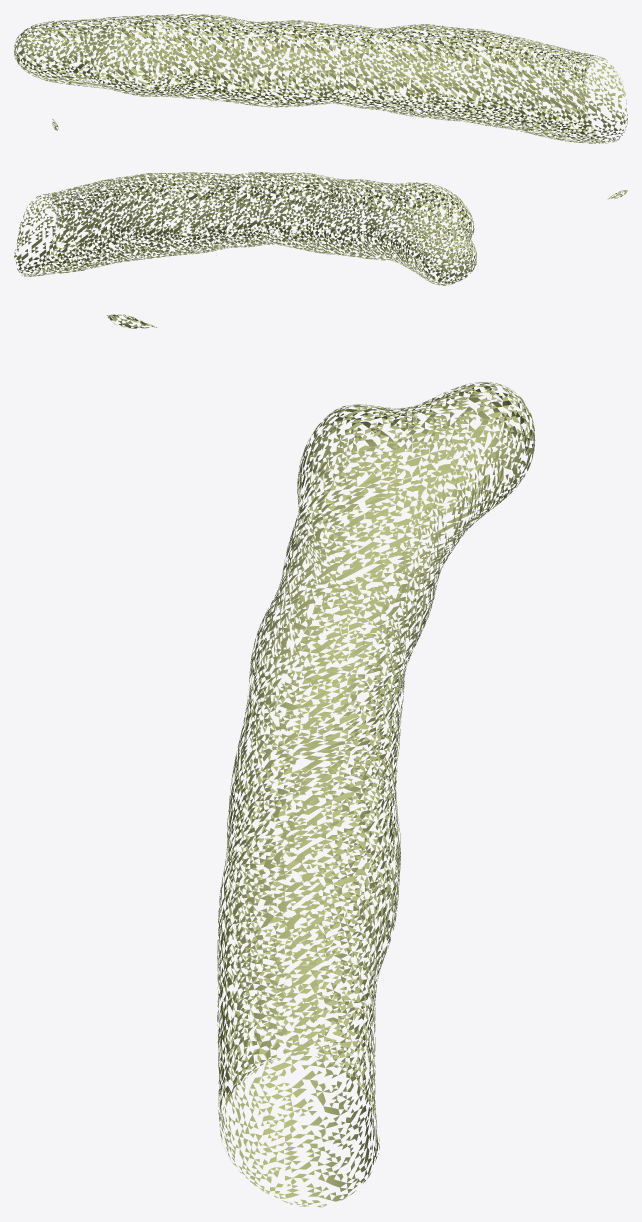
Rendered from morph_010.glb.
3 views of the same model, one above another, from view 1: azimuth 30°, elevation 25°; view 2: azimuth 150°, elevation 25°; view 3: azimuth 270°, elevation 25° (orthographic). The views are drawn at different scales.
Bounding box in the file's own units: 117 × 40.03 × 39.67.
